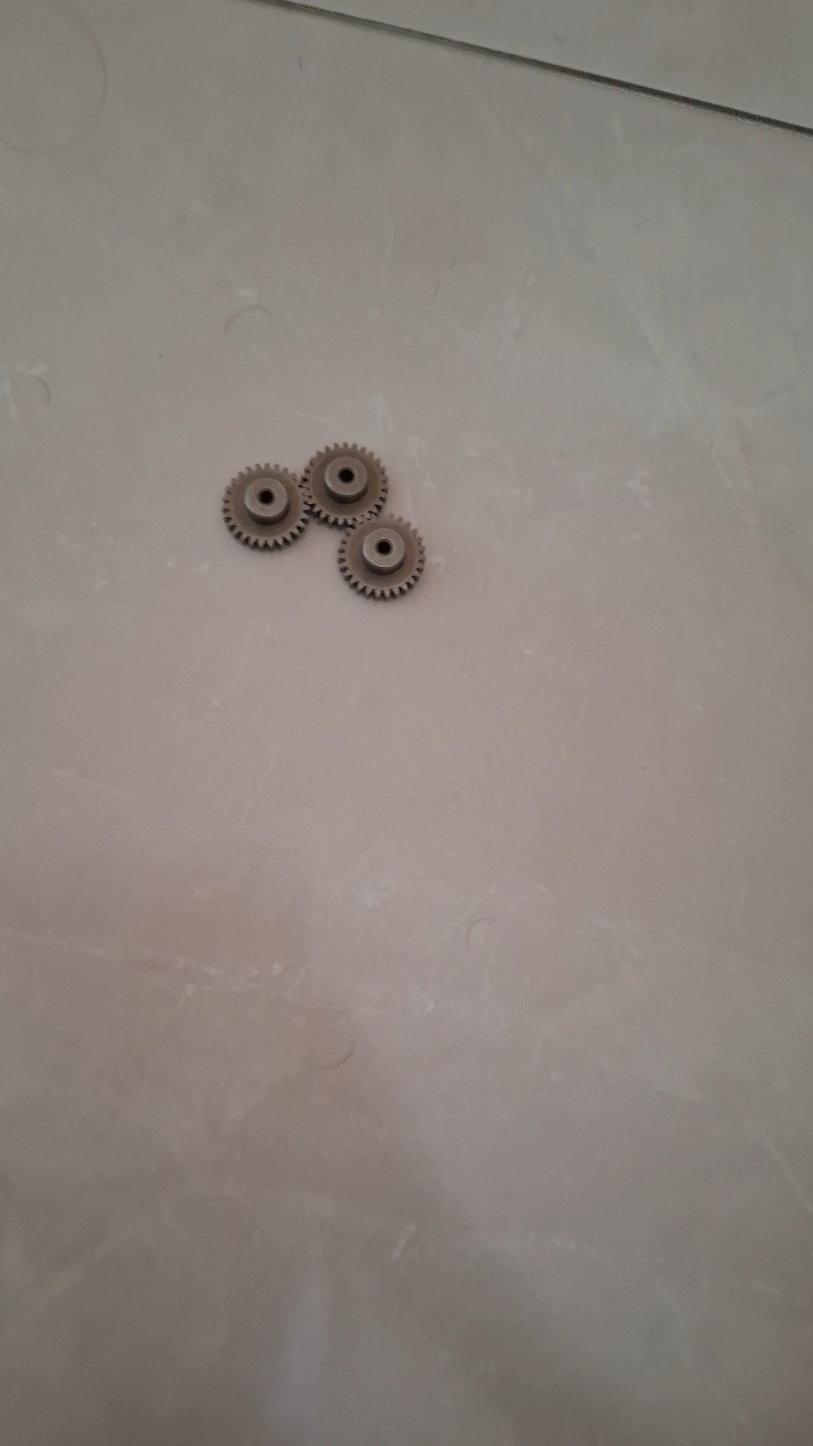spur gear: (222, 464, 309, 548), (338, 516, 425, 598), (303, 443, 388, 526)
